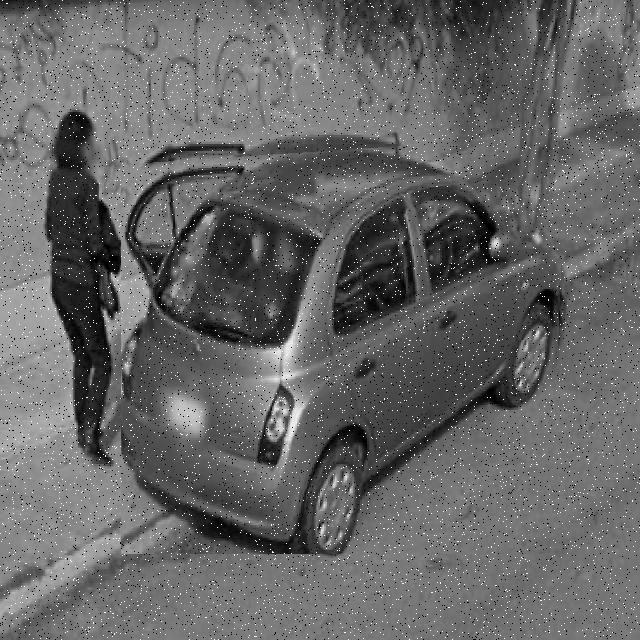car: (122, 136, 567, 555)
